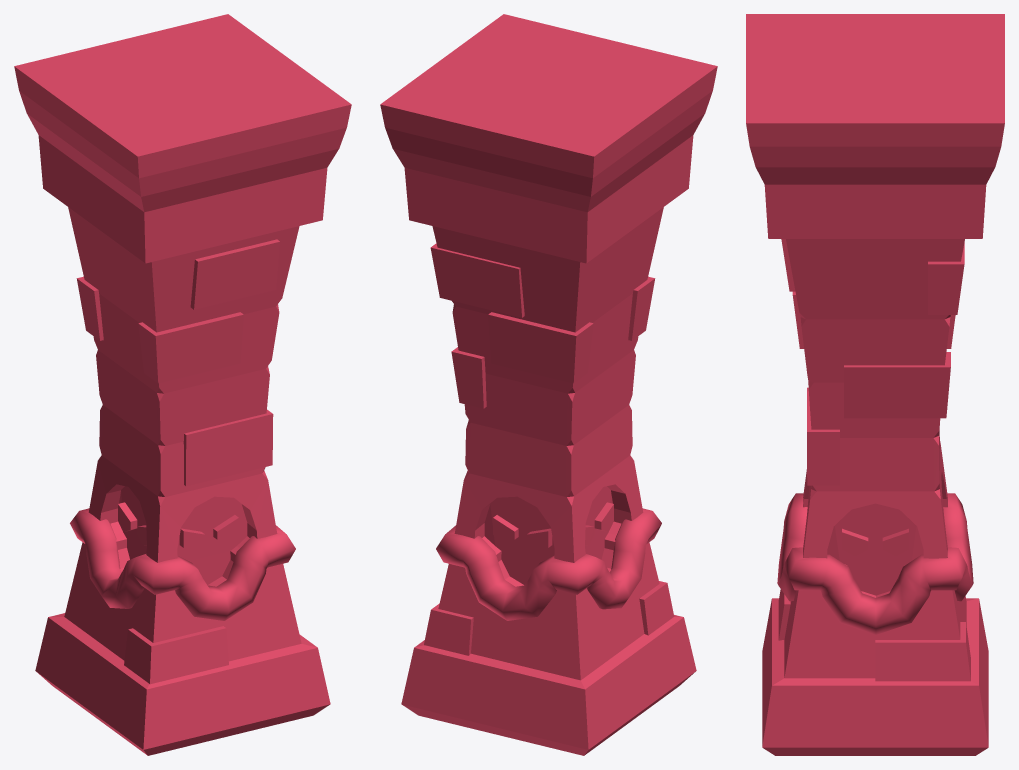
Rendered from SM_ARCH_Pillar.fbx.
The picture shows the model from 3 angles, left to right: view 1: azimuth 30°, elevation 25°; view 2: azimuth 150°, elevation 25°; view 3: azimuth 270°, elevation 25°; orthographic projection. The views are drawn at different scales.
Visible parts, largest first — view 1: m_Pillar_low; view 2: m_Pillar_low; view 3: m_Pillar_low.
Boxes of the visible parts, x1=… form: m_Pillar_low: x1=14, y1=14, x2=351, y2=755; m_Pillar_low: x1=380, y1=14, x2=717, y2=755; m_Pillar_low: x1=746, y1=14, x2=1004, y2=755.
Size of the model in its own units: 266 by 730 by 266.
